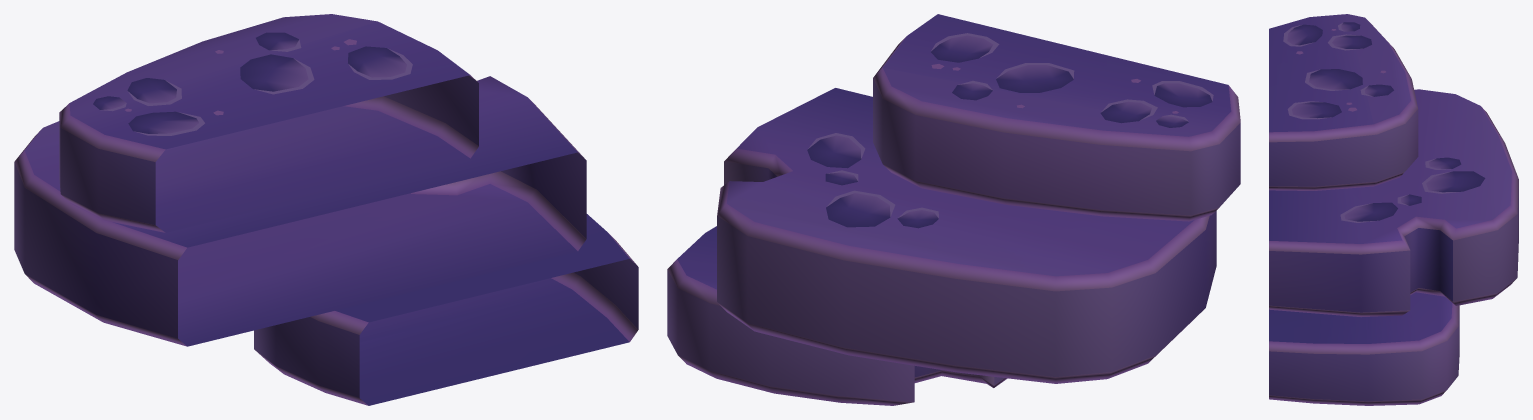
File: spongeBase.fbx
3 views of the same model, side by side, from view 1: azimuth 30°, elevation 25°; view 2: azimuth 150°, elevation 25°; view 3: azimuth 270°, elevation 25° (orthographic). The views are drawn at different scales.
Visible parts, largest first — view 1: spongeBase; view 2: spongeBase; view 3: spongeBase.
Part boxes in pixels (box(x1,y1,x2,y2)): spongeBase: box(14, 14, 638, 405); spongeBase: box(667, 14, 1240, 405); spongeBase: box(1269, 14, 1518, 405).
Size of the model in its own units: 468 by 265 by 272.
